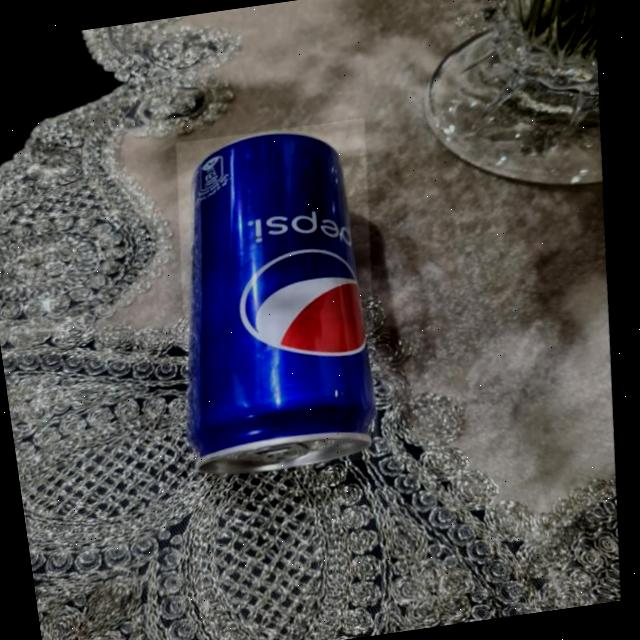trash: (148, 114, 396, 494)
